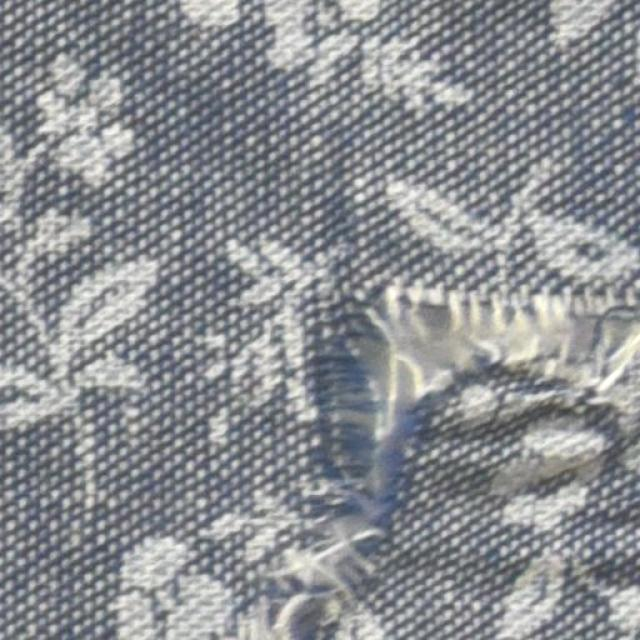Hole: (374, 316, 485, 392)
Snag: (280, 315, 414, 634), (501, 289, 639, 390)
